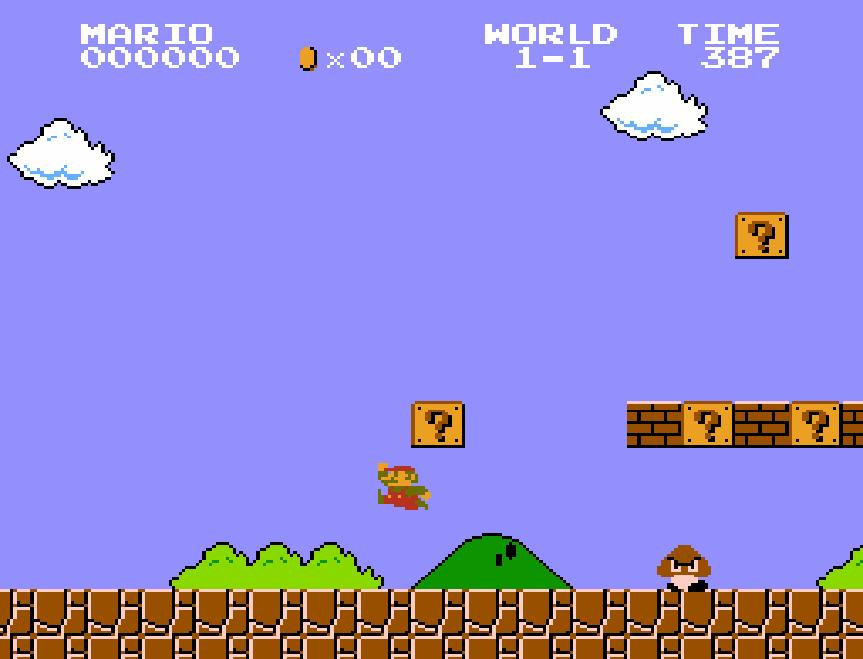little_mario: (376, 461, 434, 511)
